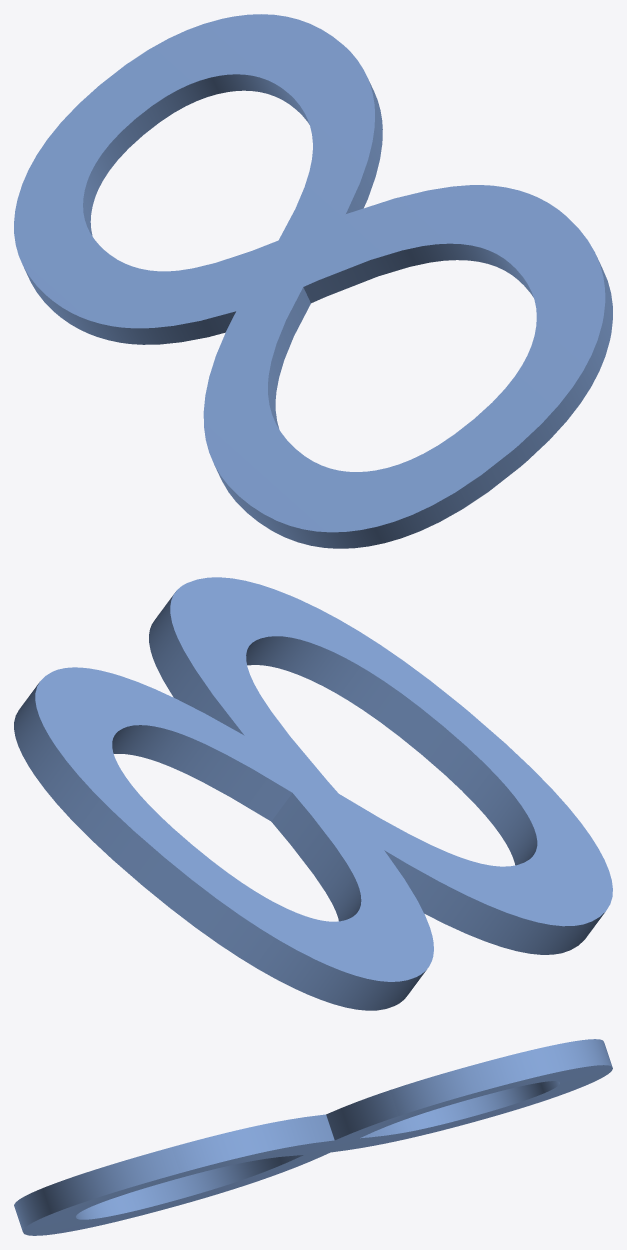
The model's file is New_Number_8.gltf.
The picture shows the model from 3 angles, top to bottom: view 1: azimuth 30°, elevation 25°; view 2: azimuth 150°, elevation 25°; view 3: azimuth 270°, elevation 25°; orthographic projection. The views are drawn at different scales.
Parts seen in each view (by area): view 1: Part 728; view 2: Part 728; view 3: Part 728.
Part boxes in pixels (box(x1,y1,x2,y2)): Part 728: box(14, 14, 612, 548); Part 728: box(14, 577, 612, 1010); Part 728: box(14, 1039, 612, 1235).
Size of the model in its own units: 0.00352 by 0.00274 by 0.00554.
